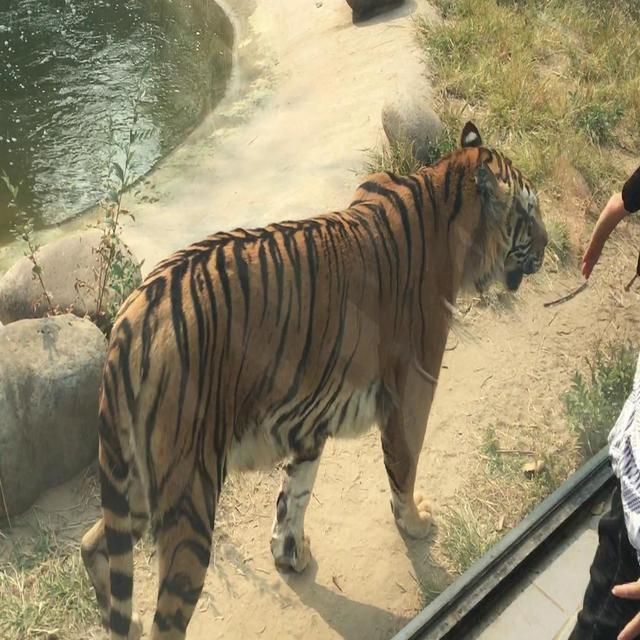tiger: (78, 119, 549, 639)
